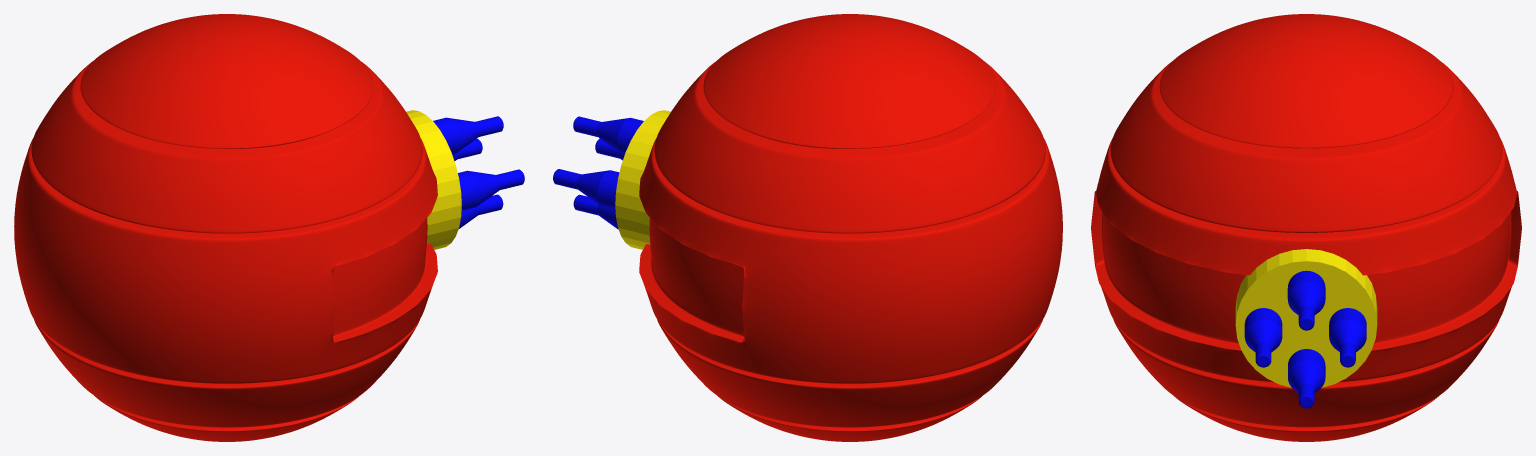
File: sphere_turret_fixed.glb
3 views of the same model, side by side, from view 1: azimuth 30°, elevation 25°; view 2: azimuth 150°, elevation 25°; view 3: azimuth 270°, elevation 25° (orthographic).
Parts seen in each view (by area): view 1: Sphere, Cylinder.004, Cylinder; view 2: Sphere, Cylinder.004, Cylinder; view 3: Sphere, Cylinder, Cylinder.004.
Part boxes in pixels (<box>): Sphere: <box>14,14,437,441</box>; Cylinder.004: <box>433,116,524,228</box>; Cylinder: <box>406,110,461,249</box>; Sphere: <box>639,14,1062,441</box>; Cylinder.004: <box>553,116,643,229</box>; Cylinder: <box>615,110,670,249</box>; Sphere: <box>1091,14,1521,441</box>; Cylinder: <box>1235,249,1377,387</box>; Cylinder.004: <box>1244,270,1366,408</box>.
Bounding box in the file's own units: 2.45 × 2 × 2.
